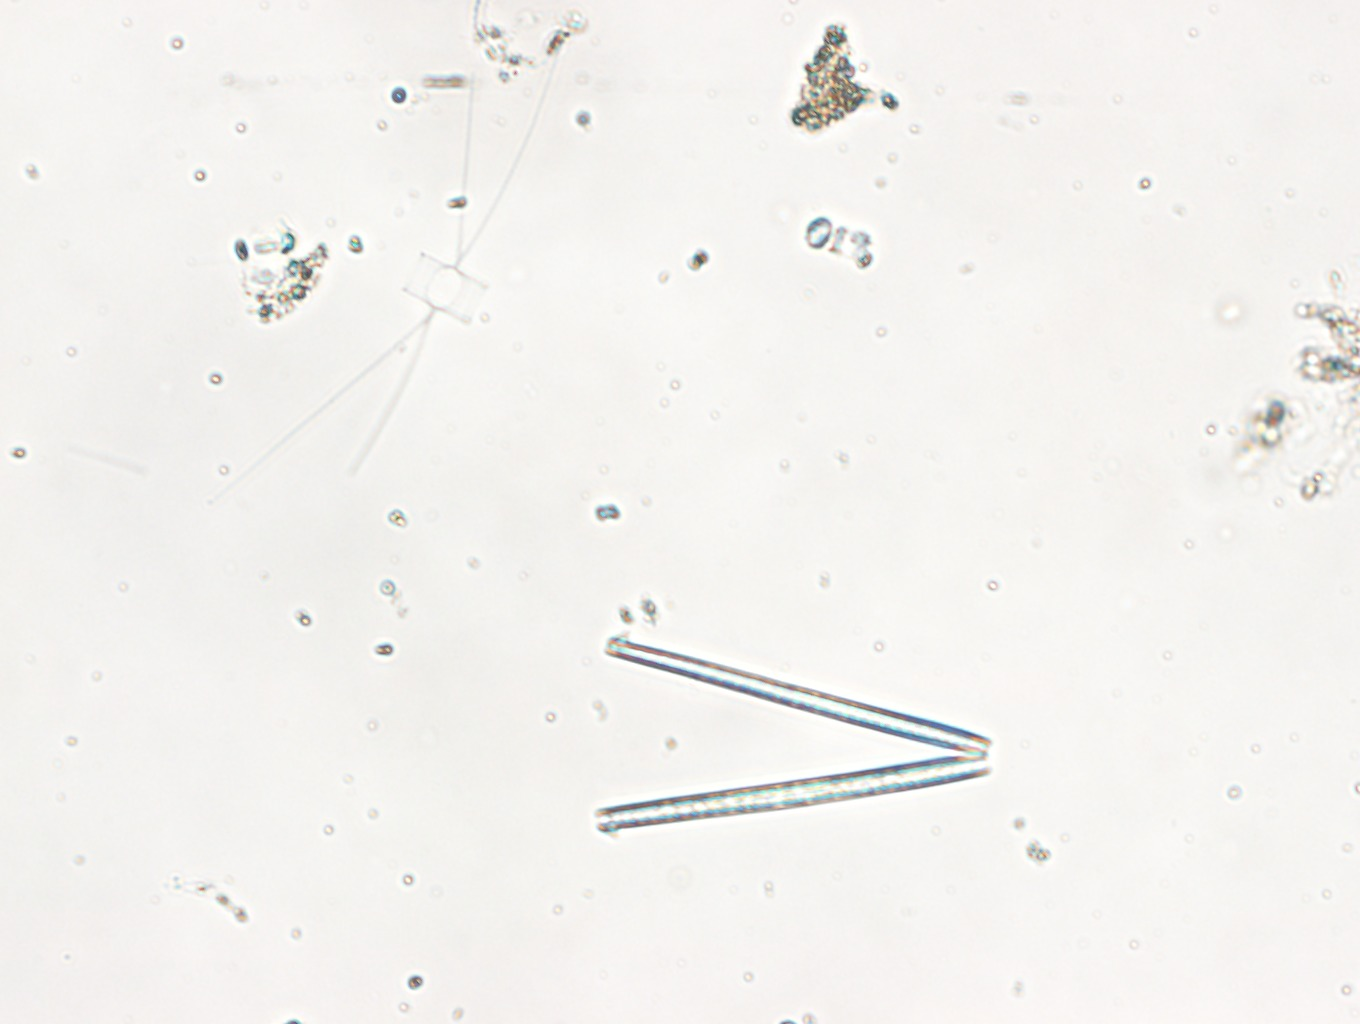chaetoceros: (246, 28, 563, 504)
thalassionema frauenfeldii: (592, 623, 998, 847)
